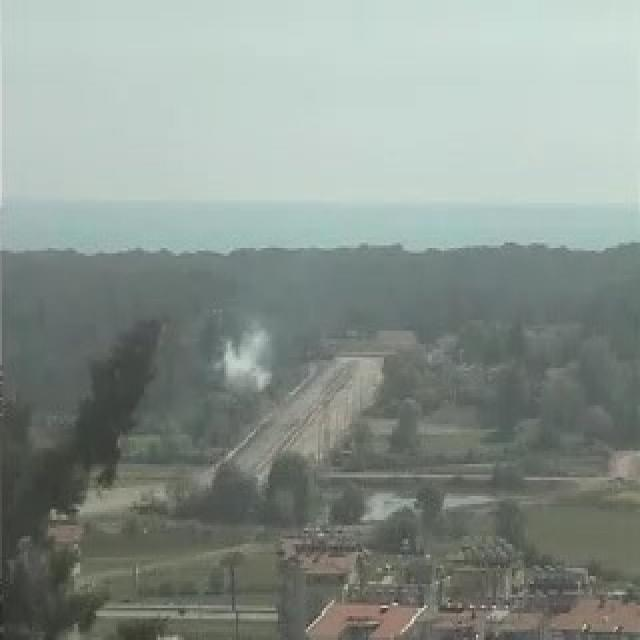smoke: (213, 318, 286, 398)
